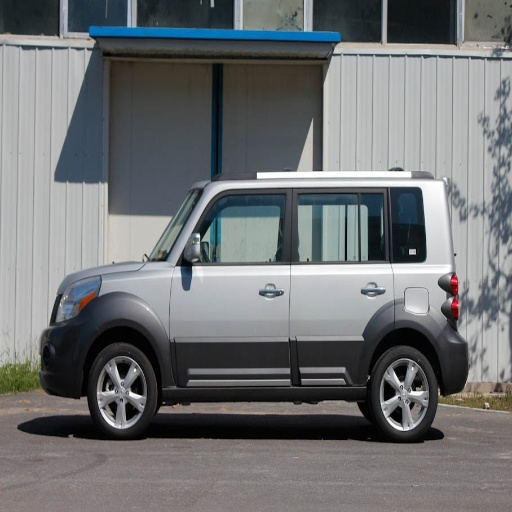back_left_door: (294, 186, 394, 383)
front_left_door: (169, 187, 292, 383)
